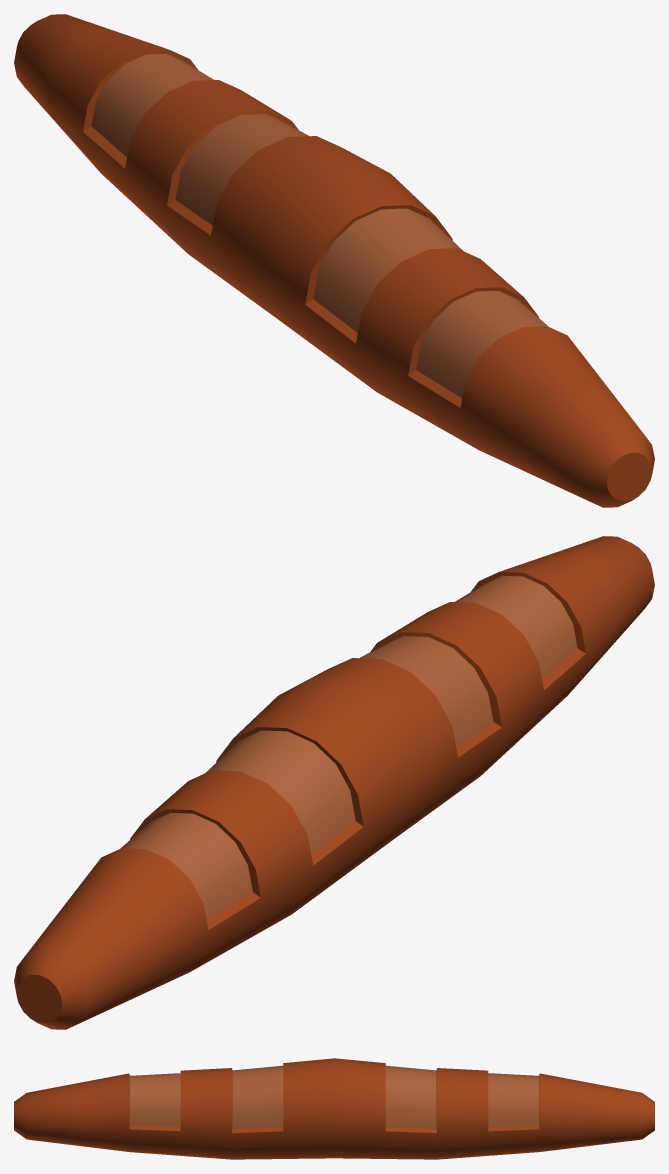
Rendered from Baguette.fbx.
3 renders of one model, top to bottom at view 1: azimuth 30°, elevation 25°; view 2: azimuth 150°, elevation 25°; view 3: azimuth 270°, elevation 25°, orthographic. The views are drawn at different scales.
Visible parts, largest first — view 1: Baguette; view 2: Baguette; view 3: Baguette.
Part boxes in pixels (<box>): Baguette: <box>14,14,654,507</box>; Baguette: <box>14,536,654,1029</box>; Baguette: <box>14,1058,654,1159</box>.
Bounding box in the file's own units: 54.89 × 55.89 × 351.
Materials: 1 (1 with a texture image).
